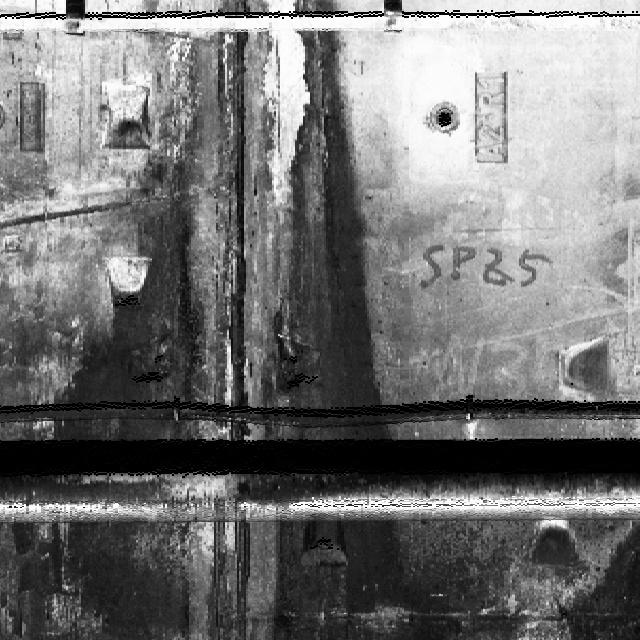leakage: (33, 0, 405, 441), (6, 516, 638, 639)
